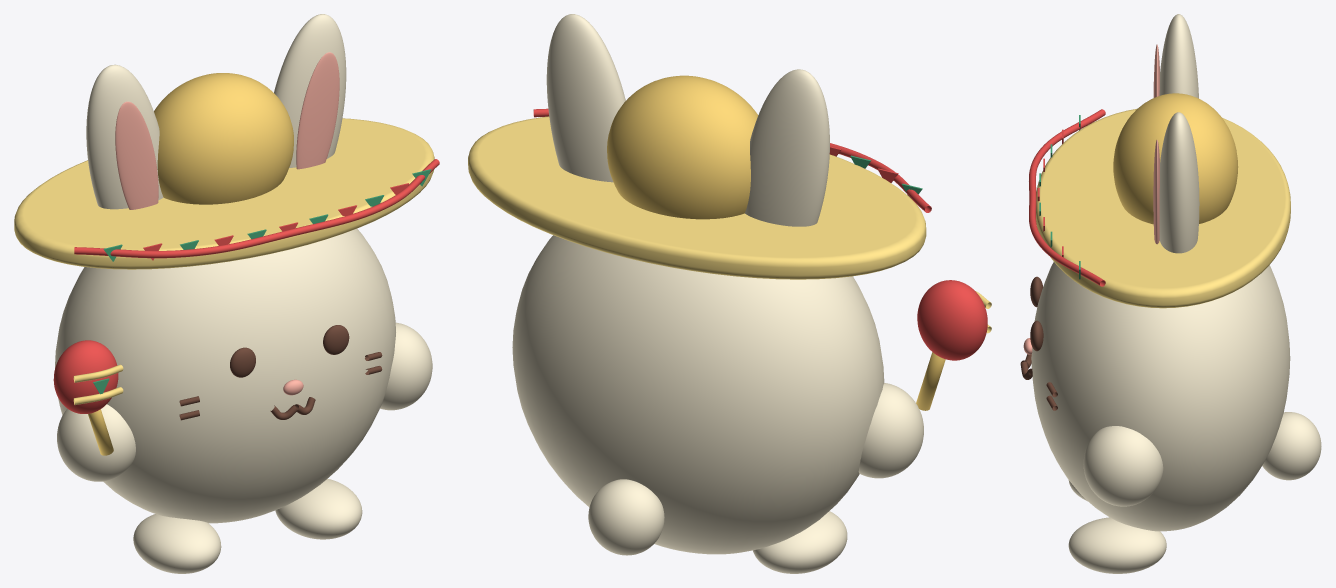
Rendered from mexico_bunny_3d.glb.
The picture shows the model from 3 angles, left to right: view 1: azimuth 30°, elevation 25°; view 2: azimuth 150°, elevation 25°; view 3: azimuth 270°, elevation 25°; orthographic projection. The views are drawn at different scales.
Visible parts, largest first — view 1: BODY - round cream torso, HAT - broad oval brim, HAT - rounded crown, EAR - Left cream, EAR - Right cream, FOOT - Left, PAW - Left, EAR - Right coral inset, EAR - Left coral inset, FOOT - Right, MARACA - red shaker head, HAT - red brim piping (+4 smaller); view 2: BODY - round cream torso, HAT - broad oval brim, HAT - rounded crown, EAR - Left cream, EAR - Right cream, TAIL - small back pom, MARACA - red shaker head, PAW - Left, FOOT - Left, HAT - red brim piping, MARACA - wooden handle; view 3: BODY - round cream torso, HAT - broad oval brim, HAT - rounded crown, PAW - Right, EAR - Right cream, FOOT - Right, TAIL - small back pom, EAR - Left cream, HAT - red brim piping, EAR - Right coral inset.
Boxes of the visible parts, x1=… form: BODY - round cream torso: x1=55, y1=228, x2=395, y2=523; HAT - broad oval brim: x1=14, y1=118, x2=434, y2=269; HAT - rounded crown: x1=154, y1=73, x2=293, y2=204; EAR - Left cream: x1=86, y1=64, x2=163, y2=209; EAR - Right cream: x1=274, y1=14, x2=346, y2=167; FOOT - Left: x1=133, y1=514, x2=221, y2=573; PAW - Left: x1=57, y1=404, x2=135, y2=481; EAR - Right coral inset: x1=296, y1=52, x2=339, y2=169; EAR - Left coral inset: x1=115, y1=101, x2=158, y2=209; FOOT - Right: x1=275, y1=478, x2=362, y2=539; MARACA - red shaker head: x1=53, y1=340, x2=118, y2=413; HAT - red brim piping: x1=74, y1=159, x2=439, y2=258; BODY - round cream torso: x1=512, y1=235, x2=884, y2=554; HAT - broad oval brim: x1=468, y1=116, x2=926, y2=279; HAT - rounded crown: x1=607, y1=75, x2=758, y2=219; EAR - Left cream: x1=745, y1=69, x2=829, y2=226; EAR - Right cream: x1=546, y1=14, x2=625, y2=182; TAIL - small back pom: x1=588, y1=479, x2=664, y2=555; MARACA - red shaker head: x1=917, y1=280, x2=987, y2=360; PAW - Left: x1=858, y1=383, x2=923, y2=478; FOOT - Left: x1=753, y1=511, x2=847, y2=573; HAT - red brim piping: x1=533, y1=108, x2=931, y2=212; MARACA - wooden handle: x1=916, y1=352, x2=945, y2=410; BODY - round cream torso: x1=1031, y1=262, x2=1290, y2=531; HAT - broad oval brim: x1=1036, y1=109, x2=1290, y2=308; HAT - rounded crown: x1=1113, y1=93, x2=1238, y2=224; PAW - Right: x1=1083, y1=426, x2=1163, y2=506; EAR - Right cream: x1=1159, y1=112, x2=1199, y2=253; FOOT - Right: x1=1068, y1=517, x2=1166, y2=573; TAIL - small back pom: x1=1262, y1=412, x2=1321, y2=480; EAR - Left cream: x1=1159, y1=14, x2=1198, y2=98; HAT - red brim piping: x1=1029, y1=109, x2=1105, y2=286; EAR - Right coral inset: x1=1153, y1=140, x2=1159, y2=244.
Size of the model in its own units: 3.12 by 3.49 by 2.02.
